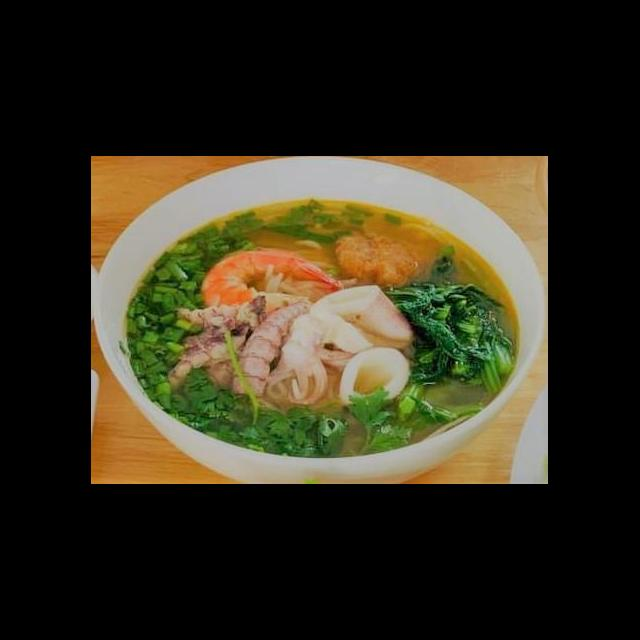muc: (262, 282, 419, 407), (334, 342, 414, 413)
tom: (195, 246, 348, 322)
tom tit: (162, 293, 270, 397), (230, 299, 314, 404), (168, 292, 272, 337)
